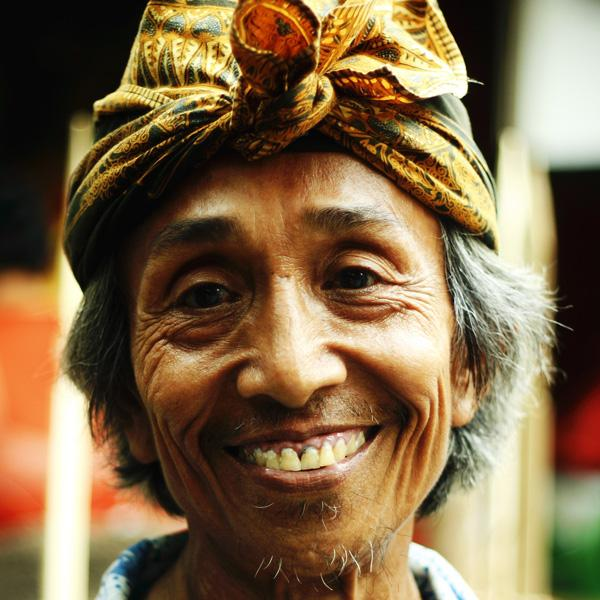Eyes: (155, 251, 251, 331), (305, 239, 399, 314)
